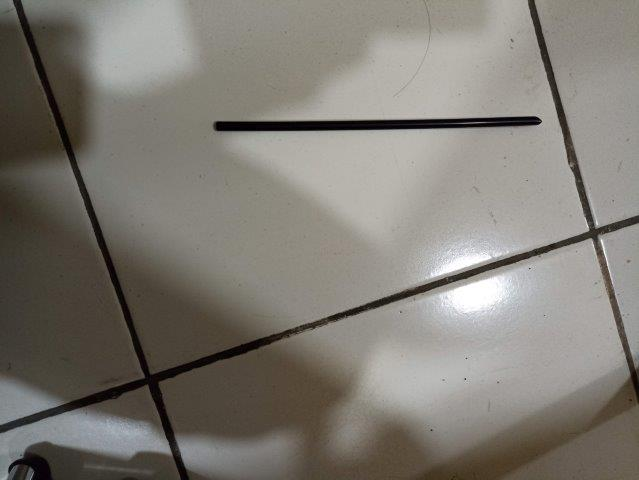sedotan: (216, 116, 542, 132)
